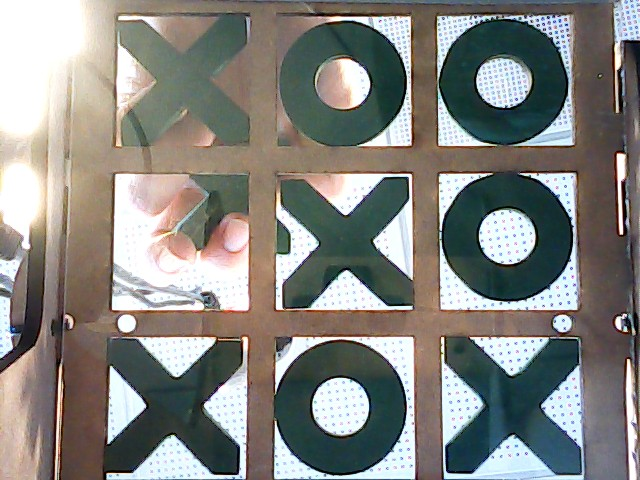O: (274, 337, 412, 479), (437, 174, 578, 307), (276, 14, 411, 147), (439, 16, 574, 146)
X: (442, 337, 585, 479), (109, 337, 244, 475), (113, 14, 248, 145), (280, 176, 410, 311)
